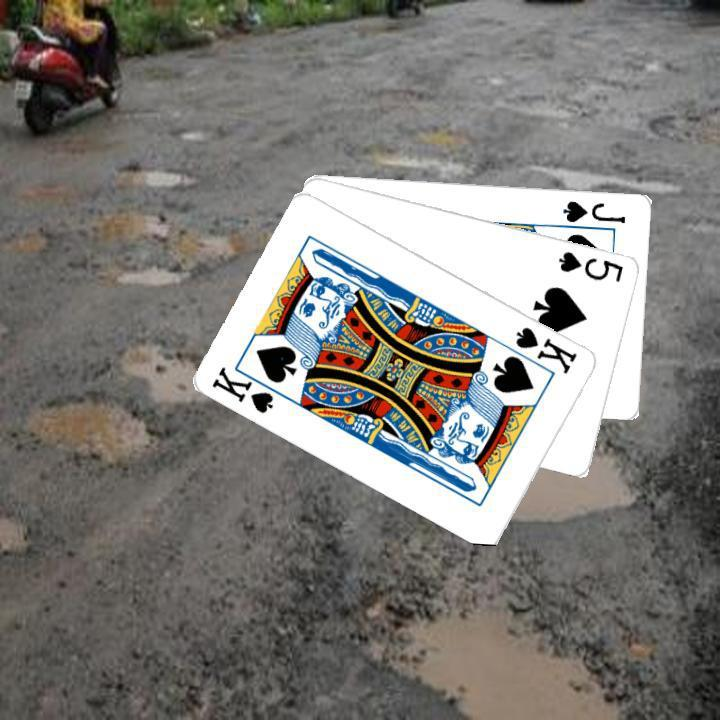5: (555, 246, 626, 283)
J: (559, 195, 628, 225)
K: (208, 361, 289, 415), (511, 322, 580, 376)
